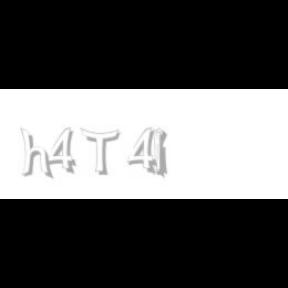4: (127, 128, 158, 174), (46, 128, 76, 174)
T: (80, 128, 120, 176)
h: (20, 128, 56, 180)
i: (155, 128, 171, 176)
l: (153, 128, 169, 180)
